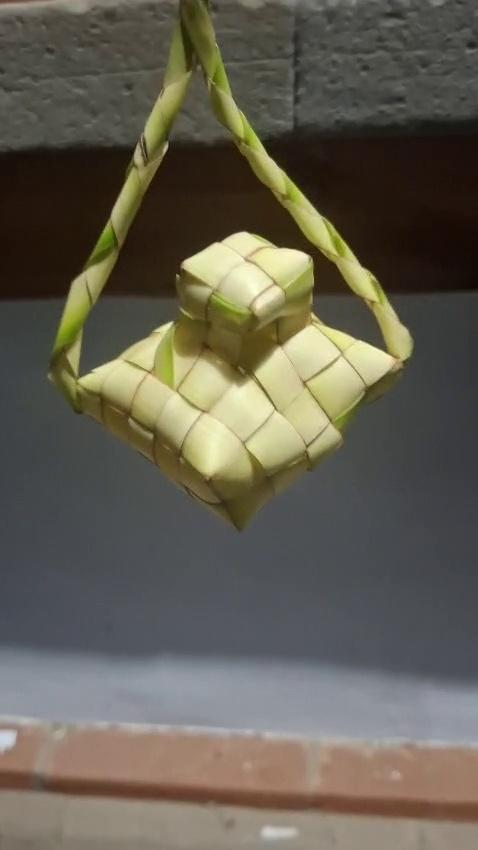Tipat Gong: (46, 0, 416, 526)
